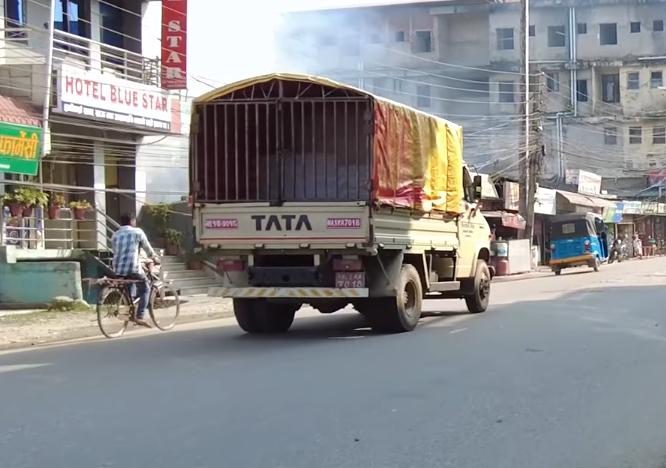auto_rickshaw: (541, 209, 612, 286)
mini_truck: (178, 67, 500, 328)
